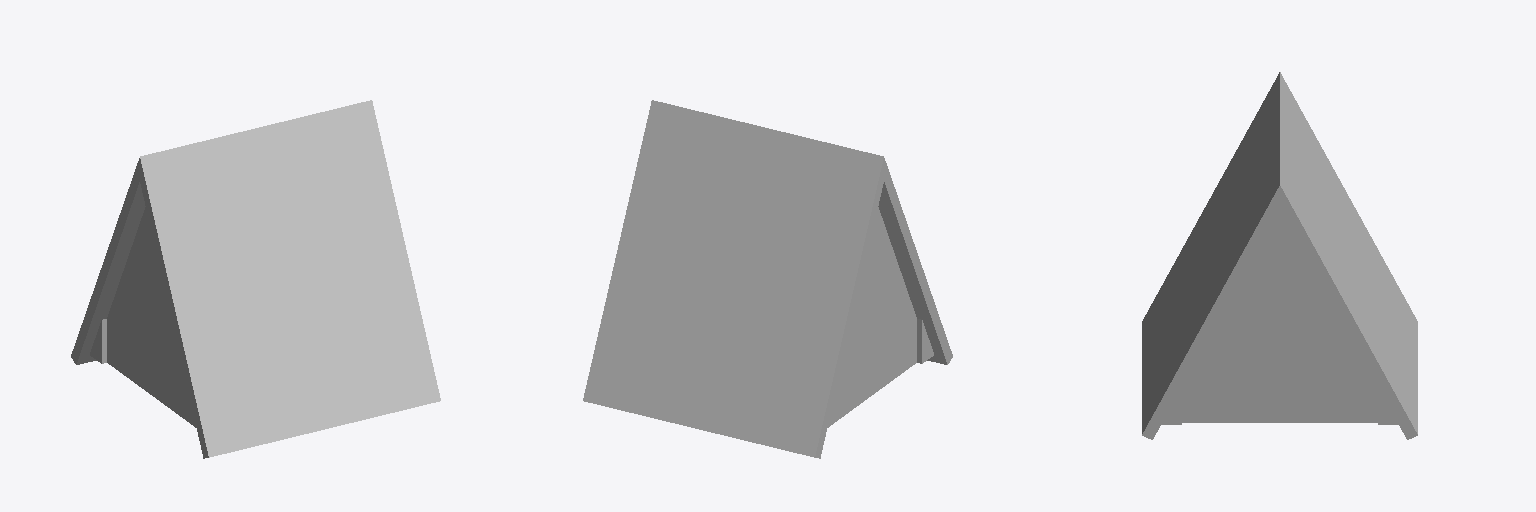
The model's file is roof-high-gable.obj.
3 renders of one model, left to right at view 1: azimuth 30°, elevation 25°; view 2: azimuth 150°, elevation 25°; view 3: azimuth 270°, elevation 25°, orthographic.
Visible parts, largest first — view 1: roof-high-gable; view 2: roof-high-gable; view 3: roof-high-gable.
Boxes of the visible parts, x1=… form: roof-high-gable: x1=71, y1=100, x2=440, y2=458; roof-high-gable: x1=583, y1=100, x2=952, y2=458; roof-high-gable: x1=1142, y1=72, x2=1417, y2=439.
Bounding box in the file's own units: 1.1 × 1.16 × 1.13.